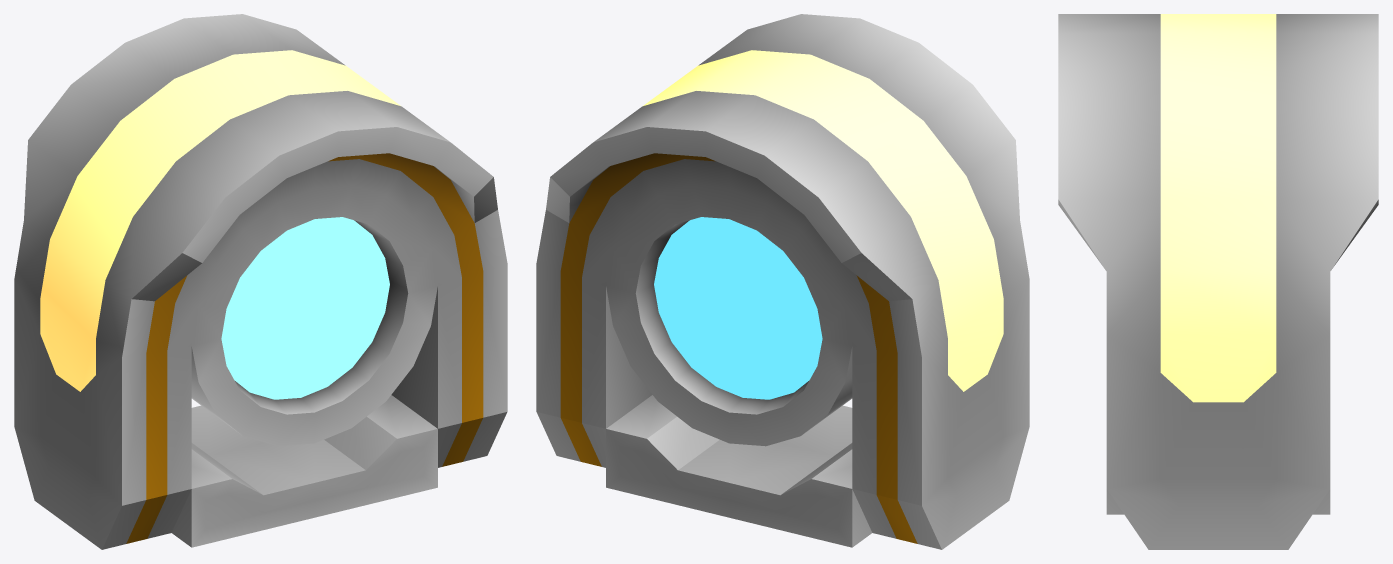
The model's file is obj_dekotora_archlight.fbx.
3 views of the same model, side by side, from view 1: azimuth 30°, elevation 25°; view 2: azimuth 150°, elevation 25°; view 3: azimuth 270°, elevation 25° (orthographic). The views are drawn at different scales.
Visible parts, largest first — view 1: Cube.050, Cube.065; view 2: Cube.050, Cube.065; view 3: Cube.050, Cube.065.
Boxes of the visible parts, bbox=[...] form: Cube.050: bbox=[14, 14, 507, 549]; Cube.065: bbox=[40, 50, 483, 543]; Cube.050: bbox=[536, 14, 1029, 549]; Cube.065: bbox=[560, 50, 1003, 543]; Cube.050: bbox=[1058, 14, 1378, 549]; Cube.065: bbox=[1160, 14, 1276, 402].
Size of the model in its own units: 2 by 2 by 1.39.
